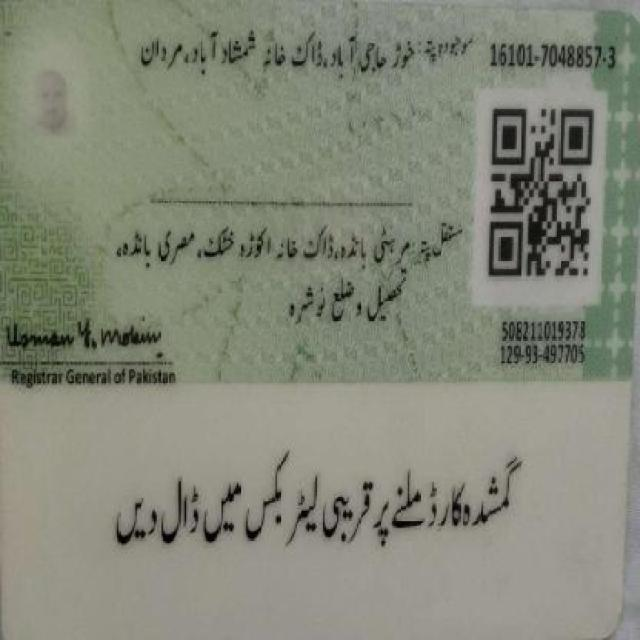Back: (3, 8, 632, 628)
